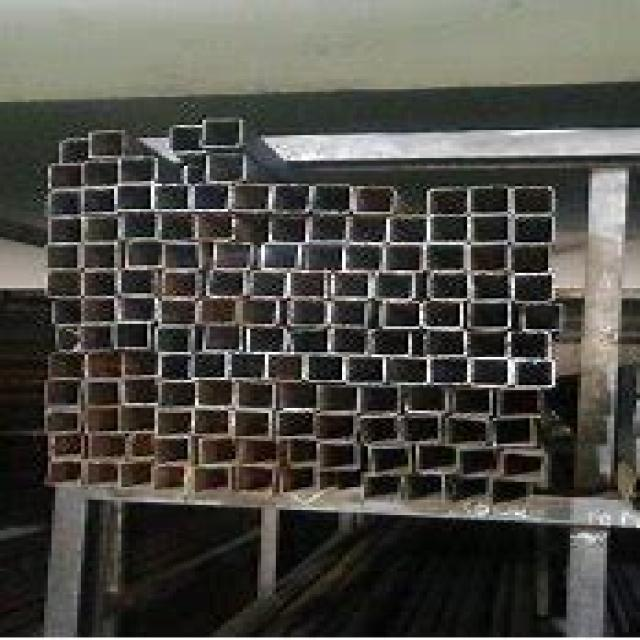pipe: (504, 448, 547, 478), (498, 388, 543, 416), (446, 416, 490, 444), (446, 477, 491, 504), (202, 119, 245, 147), (513, 187, 554, 216), (468, 301, 512, 328), (234, 467, 278, 494), (318, 472, 362, 499), (468, 244, 510, 272), (512, 274, 554, 302), (214, 242, 256, 270), (318, 441, 360, 469), (360, 414, 402, 442), (428, 356, 468, 385), (428, 188, 469, 216), (423, 301, 464, 329), (468, 358, 509, 386), (461, 447, 502, 475), (286, 300, 330, 326), (346, 216, 388, 243), (512, 360, 554, 387), (514, 244, 554, 272), (512, 332, 552, 360), (303, 352, 343, 380), (192, 465, 232, 493), (245, 326, 288, 352), (512, 216, 554, 242), (470, 215, 510, 242), (522, 304, 562, 331), (330, 272, 370, 299), (236, 438, 276, 465), (319, 385, 359, 412), (362, 385, 402, 412), (406, 387, 449, 412), (469, 274, 510, 300), (158, 380, 196, 408), (427, 244, 465, 272), (305, 243, 343, 271), (249, 270, 287, 298), (272, 183, 311, 210), (468, 331, 510, 356), (370, 448, 412, 473), (494, 418, 536, 443), (352, 186, 392, 212), (275, 410, 315, 436), (153, 466, 190, 494), (390, 216, 428, 243), (232, 183, 270, 210), (234, 410, 272, 437), (494, 480, 532, 507), (372, 273, 413, 298), (118, 269, 157, 295), (388, 358, 427, 384), (208, 154, 244, 182), (290, 272, 326, 300), (158, 300, 200, 324), (332, 300, 368, 328), (266, 354, 302, 382), (280, 466, 316, 494), (384, 245, 424, 270), (318, 414, 358, 439), (417, 445, 457, 470), (235, 382, 272, 409), (118, 157, 156, 183), (120, 212, 158, 238), (472, 188, 510, 214), (430, 216, 468, 242), (160, 272, 198, 298), (373, 330, 411, 356), (345, 356, 383, 382), (154, 438, 192, 464), (454, 388, 492, 414), (308, 214, 343, 242), (346, 244, 381, 272), (428, 274, 467, 299), (154, 326, 193, 351), (277, 384, 316, 409), (367, 475, 406, 500), (232, 213, 268, 240), (86, 351, 122, 378), (156, 409, 192, 436), (154, 184, 191, 210), (205, 324, 242, 350), (206, 272, 246, 296), (84, 214, 118, 242), (194, 351, 228, 379), (194, 409, 232, 434), (278, 438, 316, 463), (115, 322, 151, 348), (198, 438, 234, 464), (193, 184, 229, 210), (122, 240, 158, 266), (271, 213, 304, 241), (48, 217, 82, 244), (382, 302, 420, 326), (46, 381, 84, 405), (47, 189, 82, 215), (314, 186, 350, 211), (84, 406, 120, 431), (160, 353, 193, 380), (263, 244, 300, 268), (47, 460, 84, 484), (89, 131, 123, 157), (46, 271, 80, 297), (86, 380, 120, 406), (195, 214, 230, 239), (124, 352, 159, 377), (204, 299, 242, 322), (172, 125, 204, 152), (292, 328, 328, 352), (405, 416, 441, 440), (332, 330, 369, 353), (165, 244, 199, 269), (82, 298, 116, 323), (410, 475, 444, 500), (46, 245, 81, 269), (161, 213, 191, 241), (122, 460, 152, 488), (118, 298, 156, 320), (88, 434, 120, 460), (121, 434, 153, 460), (48, 355, 84, 378), (50, 434, 86, 457), (120, 406, 154, 430), (230, 354, 264, 378), (83, 188, 117, 212), (83, 246, 117, 270), (84, 270, 115, 296), (49, 164, 82, 188), (428, 332, 464, 354), (85, 162, 118, 186), (52, 298, 81, 325), (46, 408, 80, 431), (245, 300, 279, 323), (198, 381, 232, 404), (85, 462, 118, 484), (54, 327, 82, 351), (84, 325, 112, 348), (62, 138, 87, 163)
